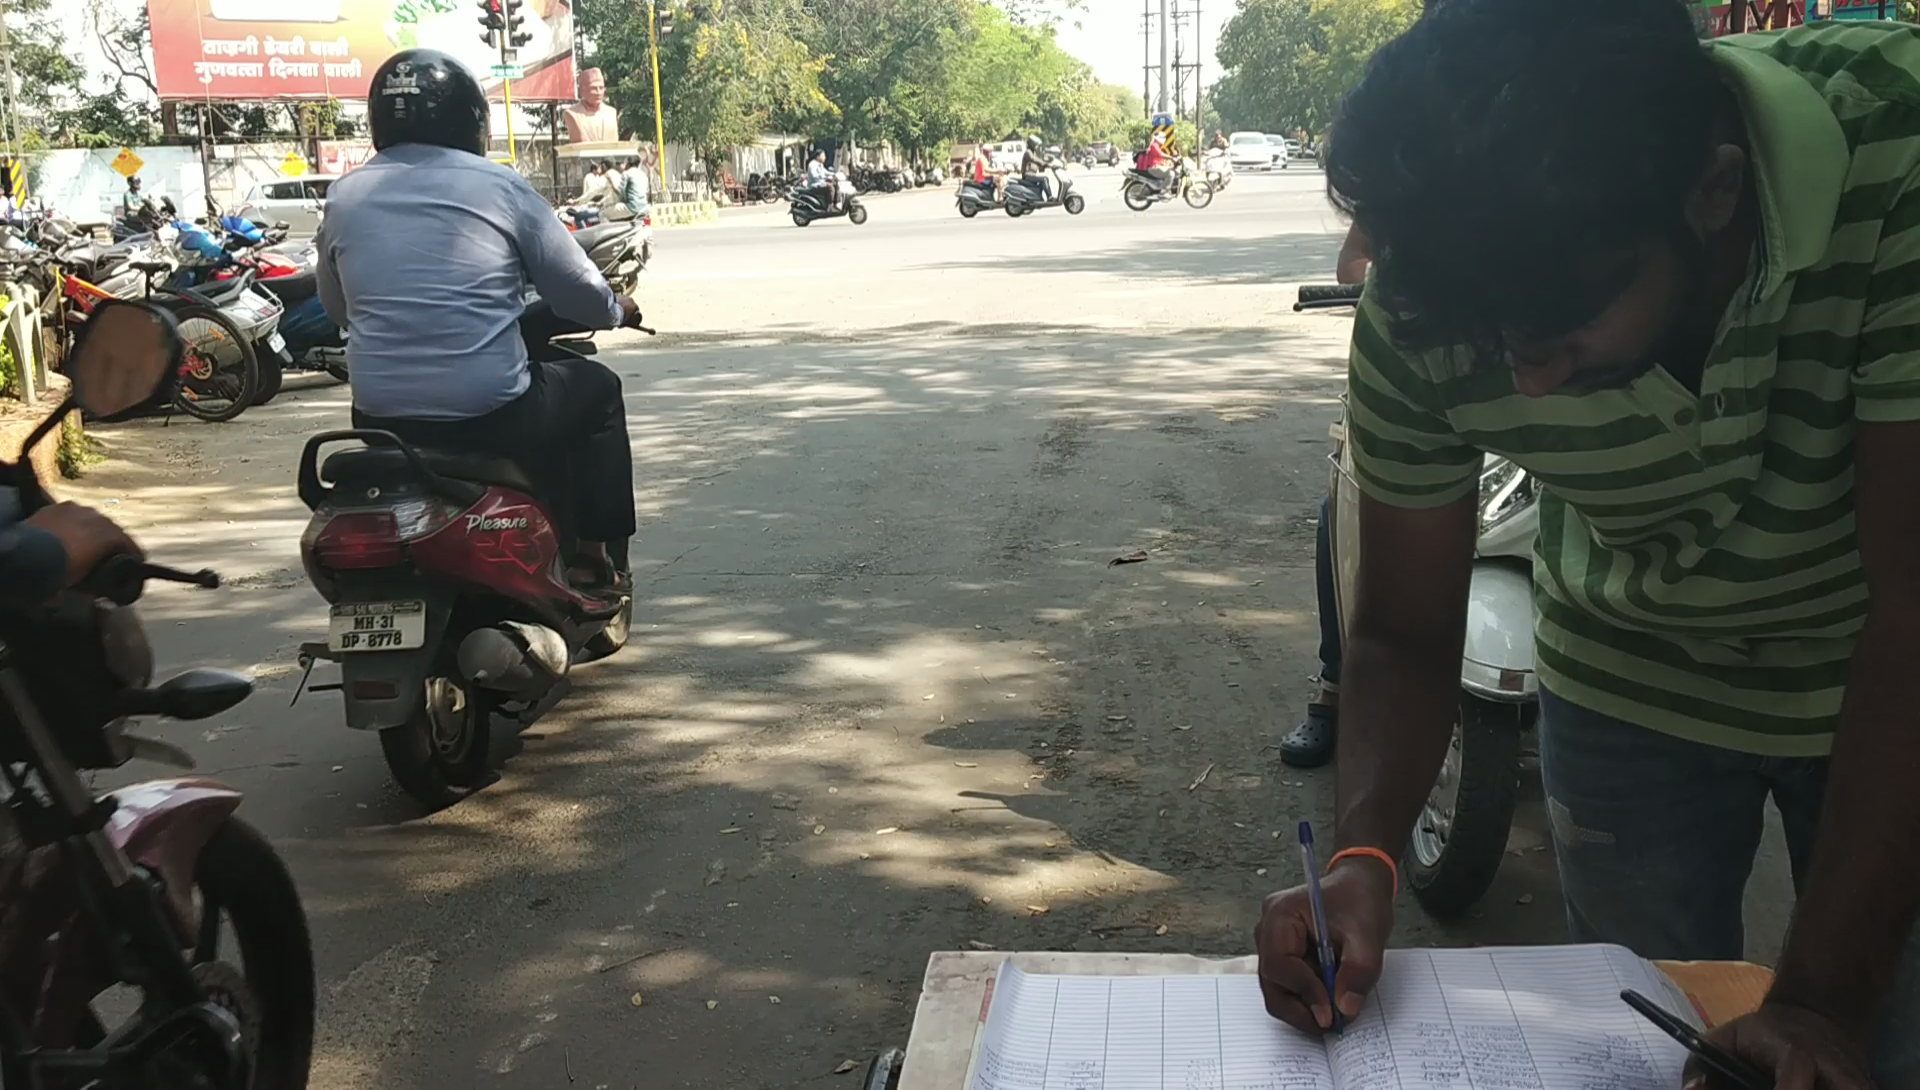car: (224, 254, 691, 842)
numplate: (312, 593, 438, 672)
